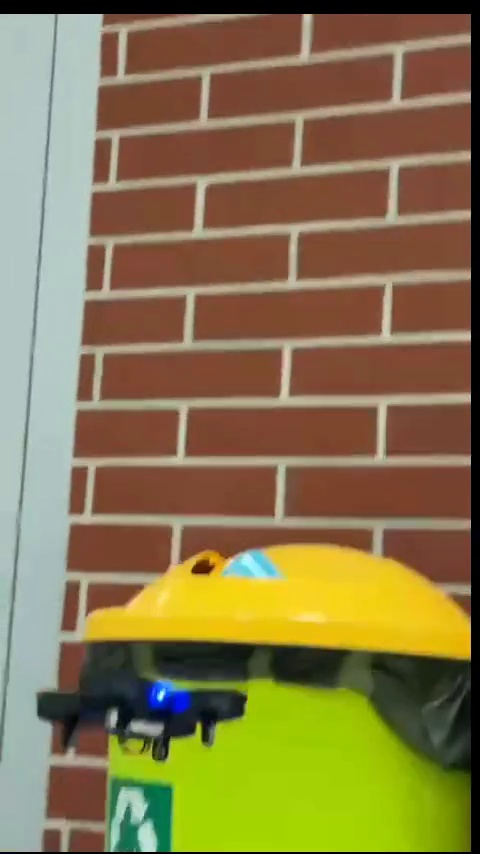drone: (35, 668, 253, 758)
